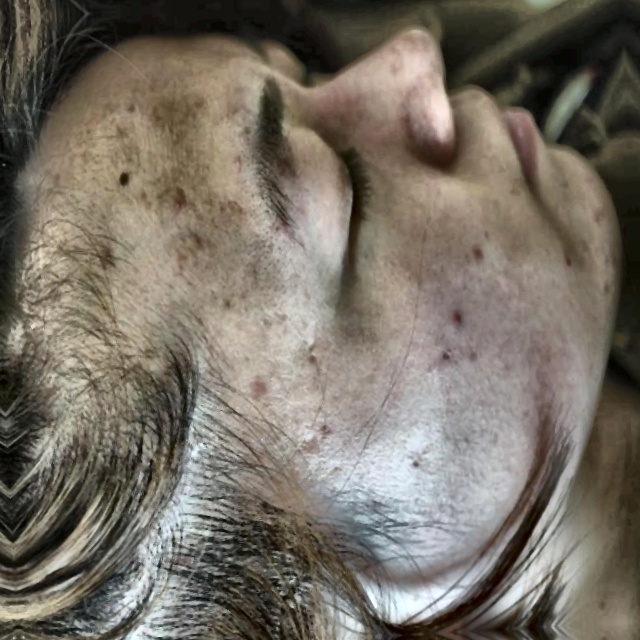comedone: (248, 358, 285, 417), (163, 178, 193, 215), (444, 307, 472, 342)
